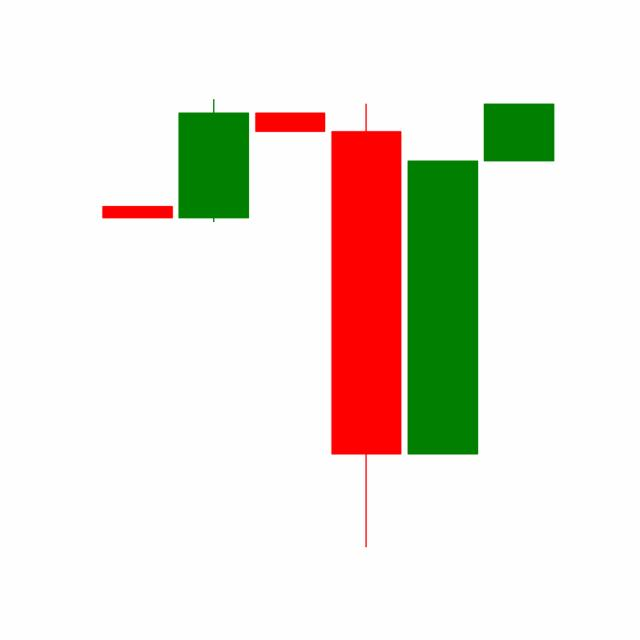Marubozu: (403, 156, 481, 458)
